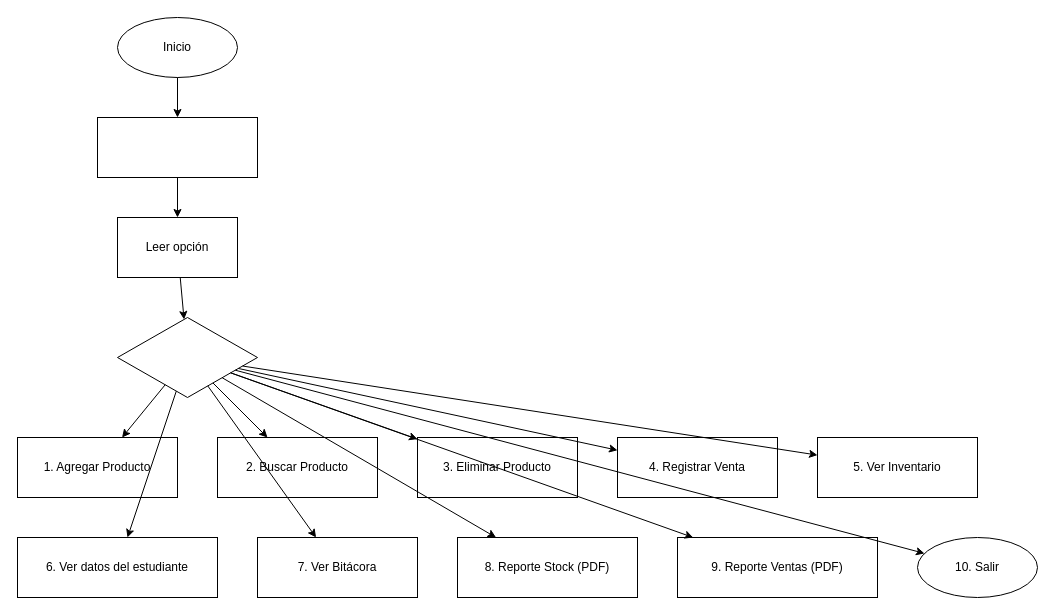
Some shapes in this 1055 by 615 pixel diagram are drawn without their labels. Each missing label, with the box of its shape:
Mostrar Menú Principal: (96, 116, 258, 178)
¿Qué opción?: (116, 316, 258, 398)
